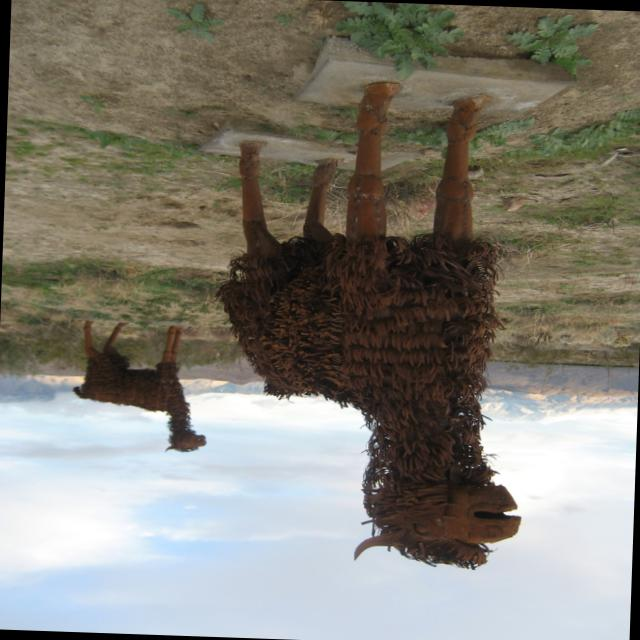alpaca: (205, 73, 542, 570), (70, 315, 214, 456)
